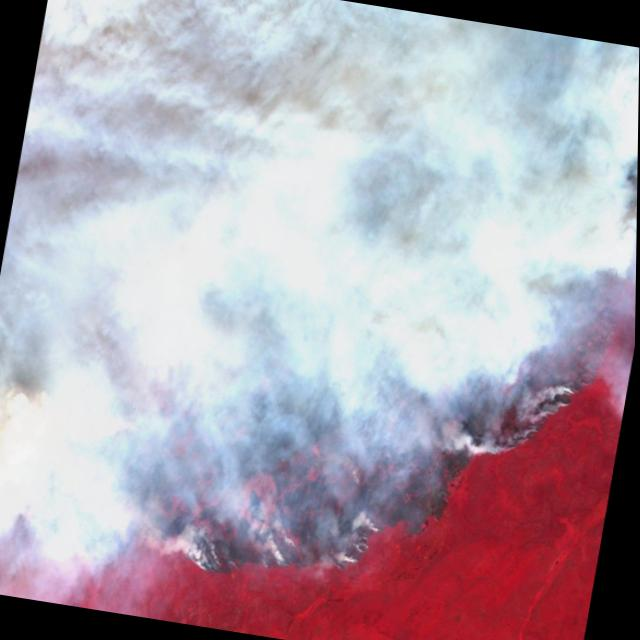fire: (0, 63, 639, 640)
